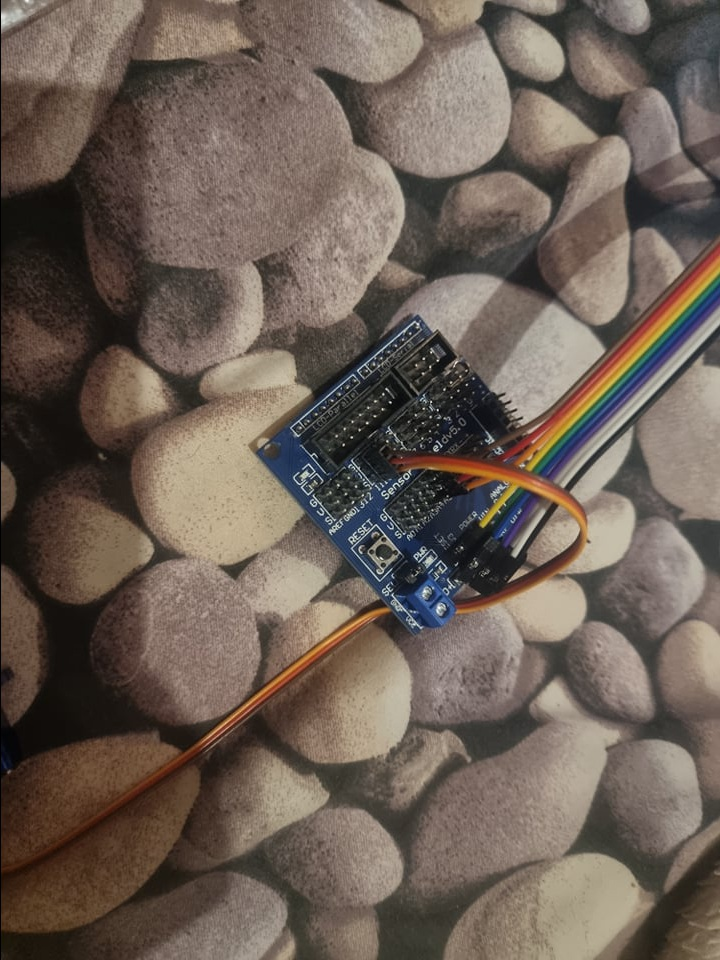5V EXPANSION: (255, 311, 543, 636)
